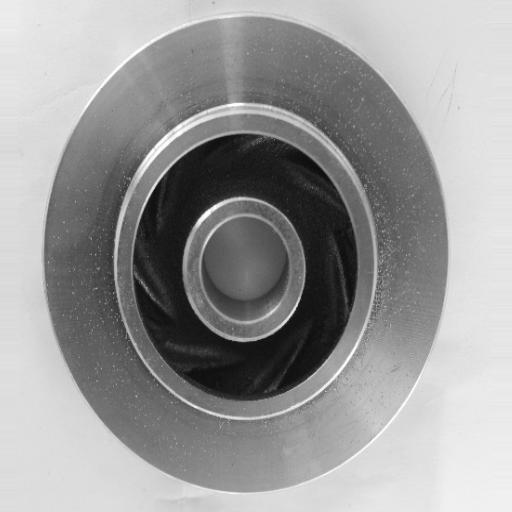polished_casting: (43, 12, 451, 496)
